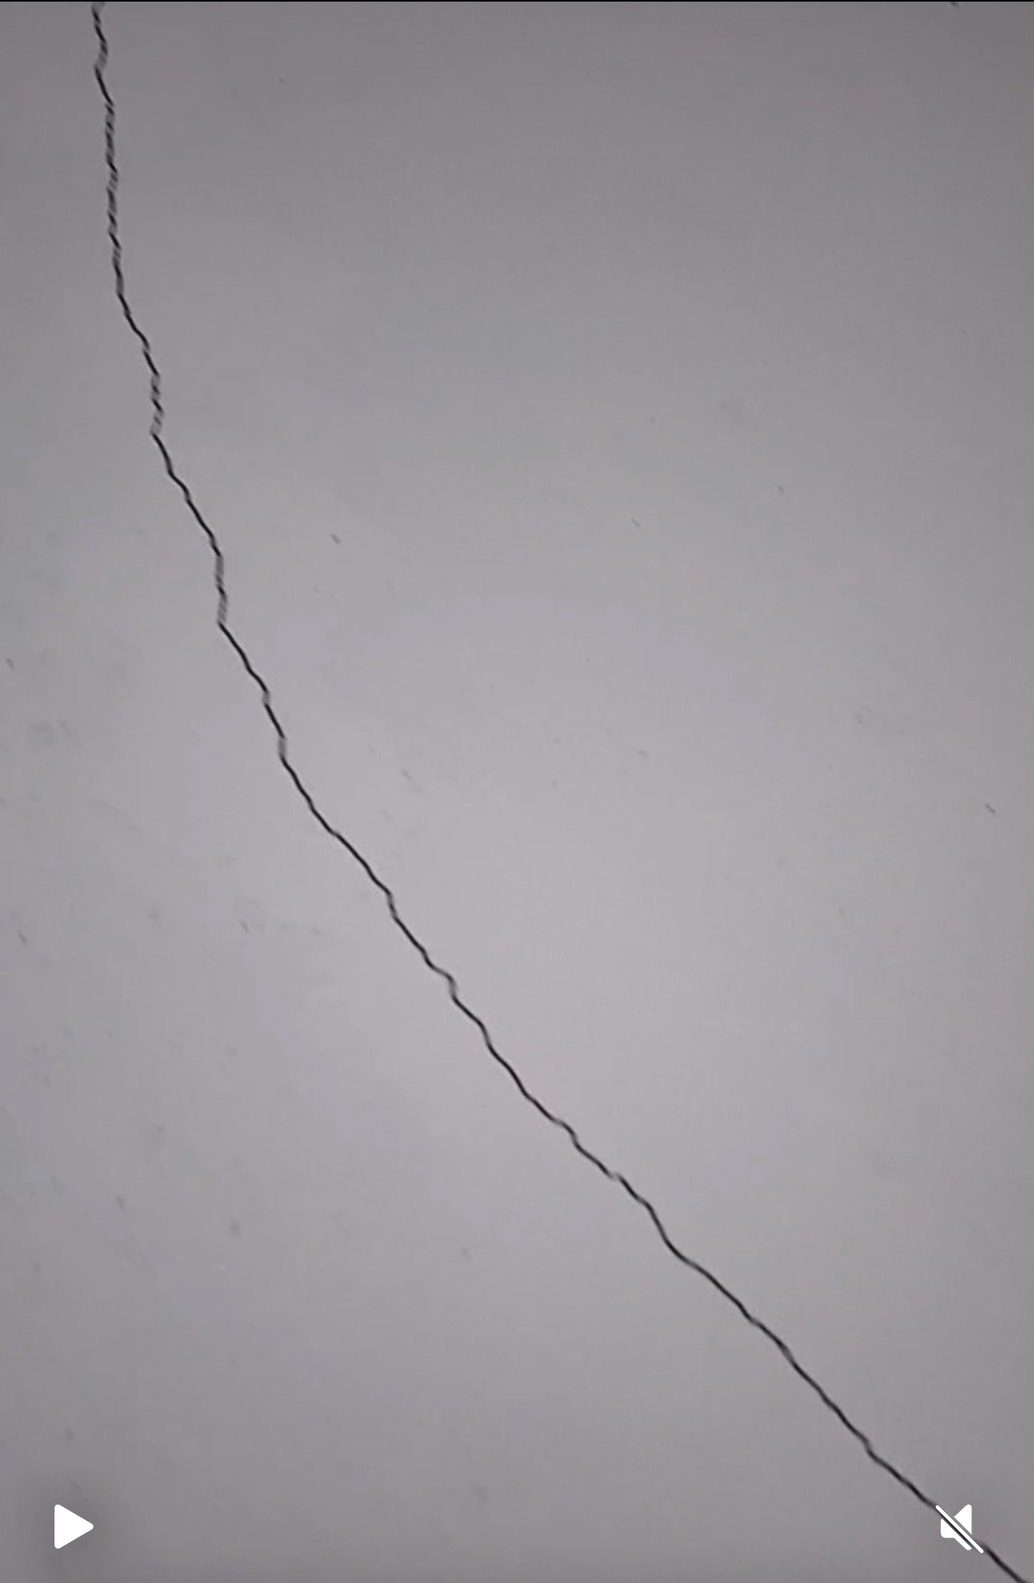Medium: (125, 284, 802, 1371)
